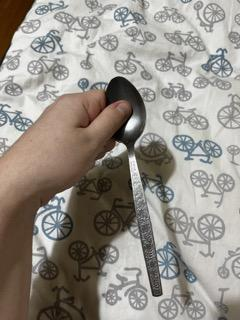spoon: (103, 74, 166, 301)
